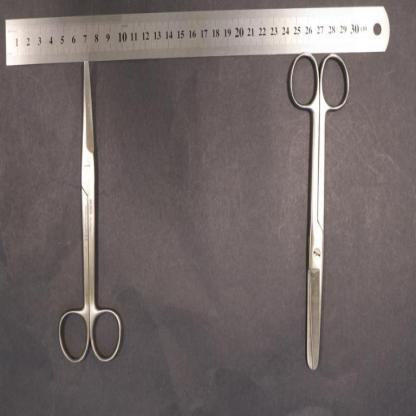Curved Mayo Scissors: (57, 58, 123, 366)
Dressing Scissors: (288, 50, 352, 372)
